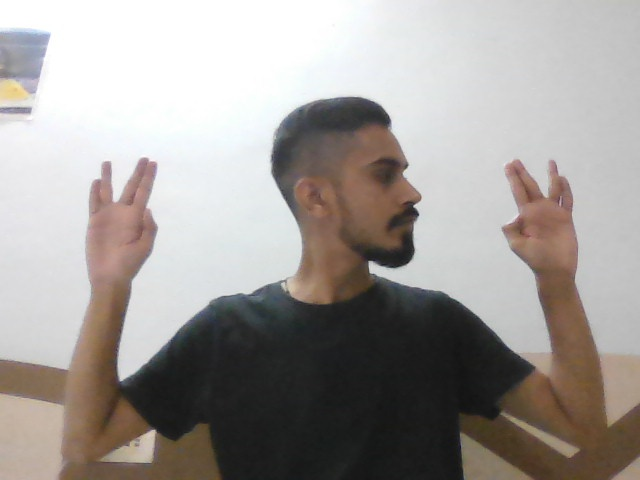LiveLong: (78, 150, 162, 301)
